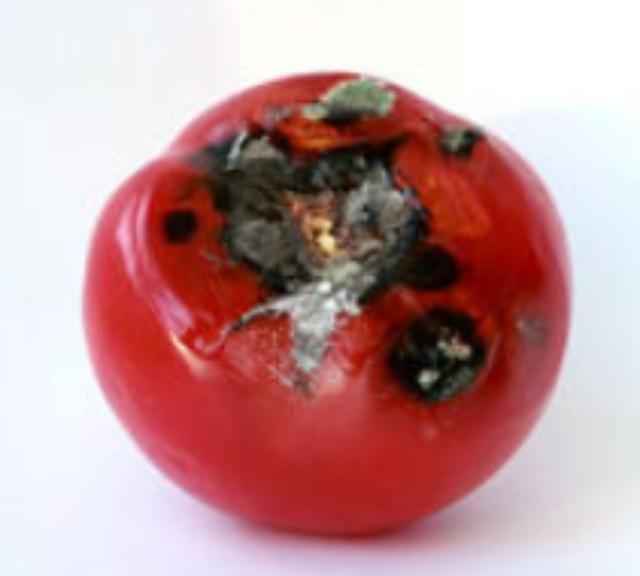defect: (78, 62, 575, 546)
